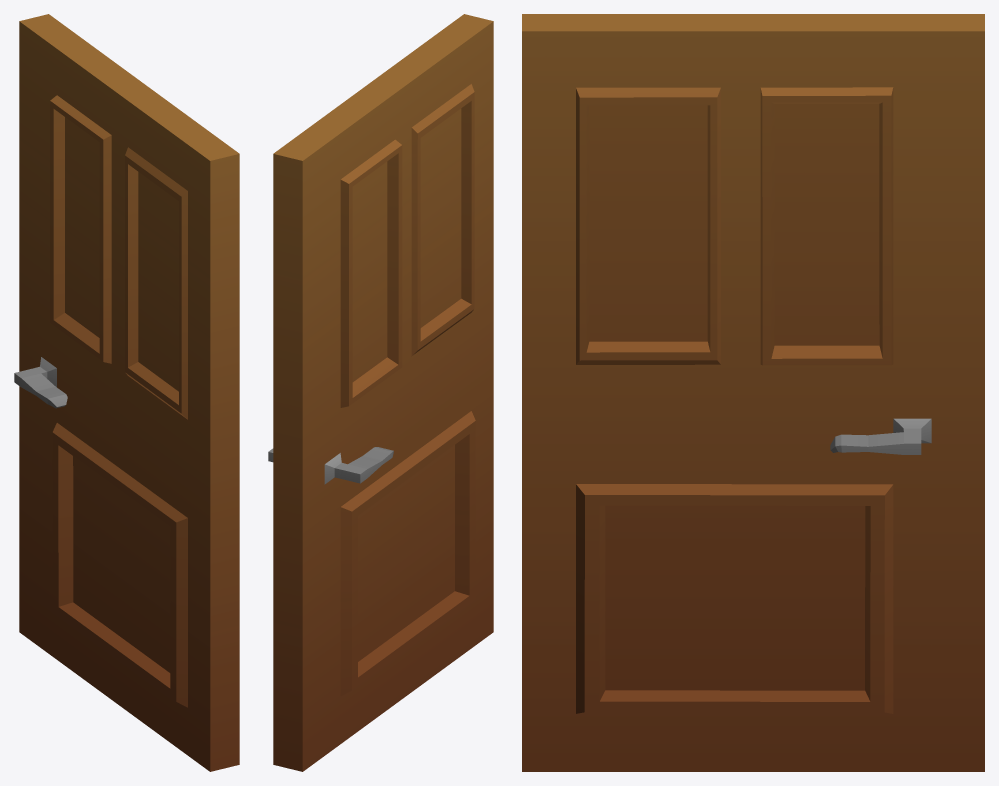
The model's file is SM_Puerta.fbx.
The picture shows the model from 3 angles, left to right: view 1: azimuth 30°, elevation 25°; view 2: azimuth 150°, elevation 25°; view 3: azimuth 270°, elevation 25°; orthographic projection. The views are drawn at different scales.
Parts seen in each view (by area): view 1: Puerta; view 2: Puerta; view 3: Puerta.
Boxes of the visible parts, x1=… form: Puerta: x1=14, y1=14, x2=239, y2=771; Puerta: x1=268, y1=14, x2=493, y2=771; Puerta: x1=522, y1=14, x2=984, y2=771.
Size of the model in its own units: 35.44 by 225 by 127.
